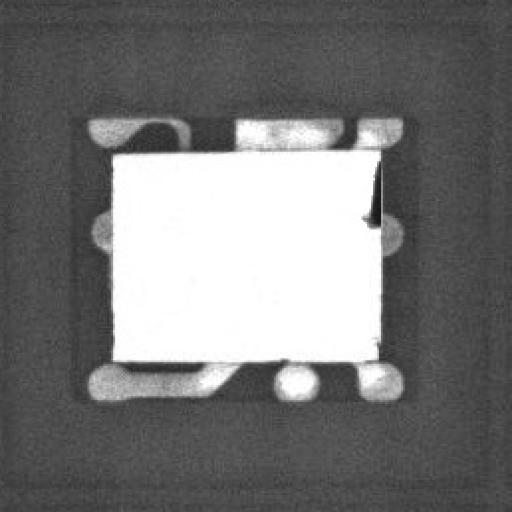DIE_BROKEN: (355, 158, 385, 230)
